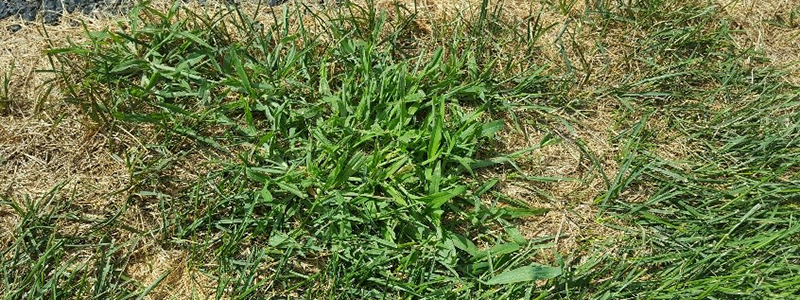crabgrass: (205, 55, 526, 282)
